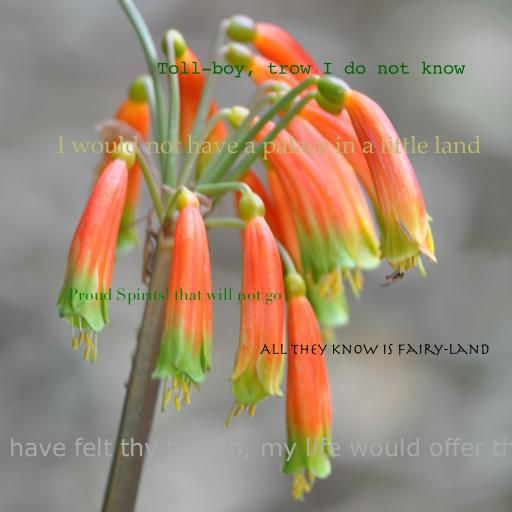Courier: (157, 61, 465, 78)
Didot: (68, 288, 282, 305)
Herculanum: (260, 343, 490, 356)
Palatino: (56, 134, 482, 160)
Verdana: (0, 437, 512, 461)
